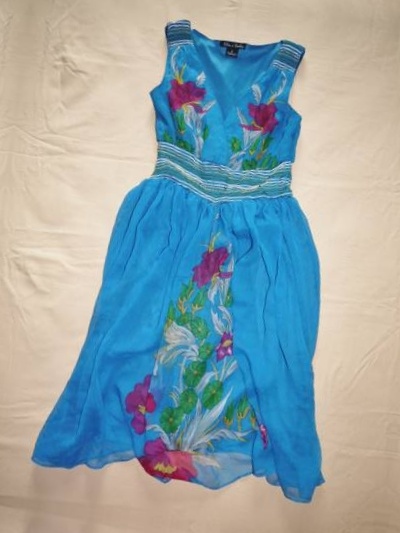Dress: (15, 0, 389, 518), (84, 0, 400, 15), (0, 529, 315, 533)
